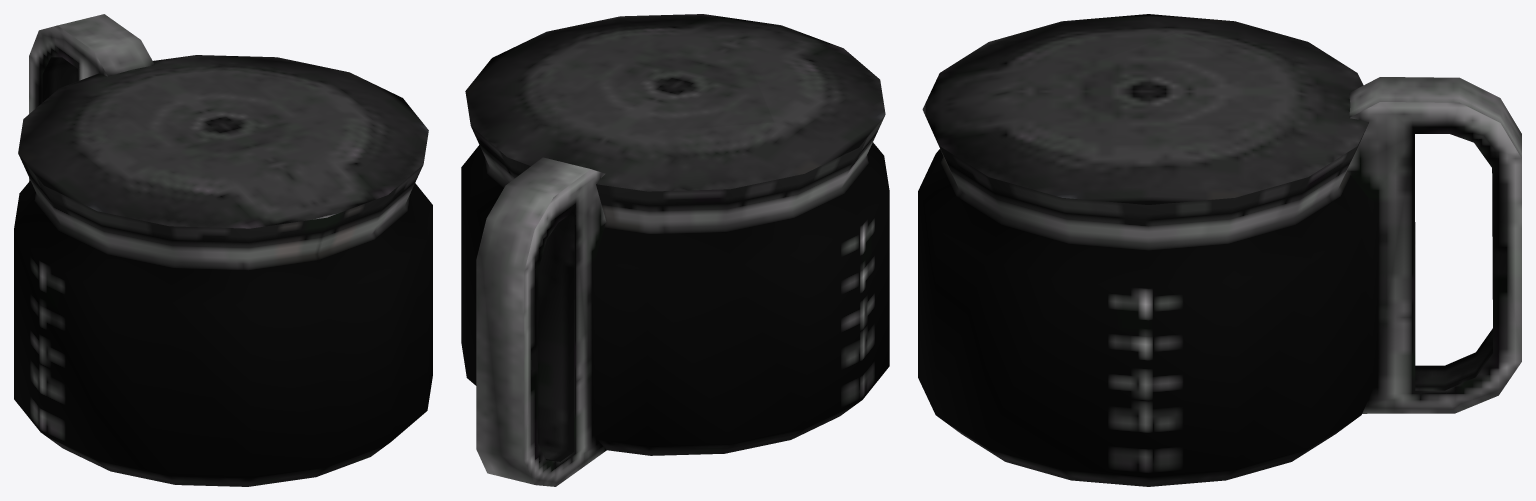
The model's file is CoffeeMaker01_Pot.FBX.
3 views of the same model, side by side, from view 1: azimuth 30°, elevation 25°; view 2: azimuth 150°, elevation 25°; view 3: azimuth 270°, elevation 25° (orthographic). The views are drawn at different scales.
Visible parts, largest first — view 1: CoffeeMaker01_Pot; view 2: CoffeeMaker01_Pot; view 3: CoffeeMaker01_Pot.
Part boxes in pixels (bbox=[...]): CoffeeMaker01_Pot: bbox=[14, 14, 432, 486]; CoffeeMaker01_Pot: bbox=[461, 14, 889, 486]; CoffeeMaker01_Pot: bbox=[918, 14, 1521, 486].
Bounding box in the file's own units: 0.1818 × 0.1358 × 0.2382.
